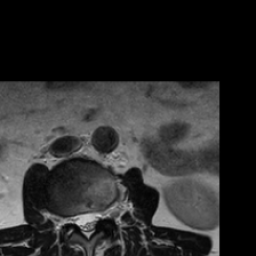CCS_normal: (83, 203, 91, 246)
LFS_normal: (101, 196, 110, 227)
LLS_normal: (91, 202, 101, 232)
RFS_normal: (63, 205, 73, 229)
RLS_normal: (73, 203, 83, 237)
